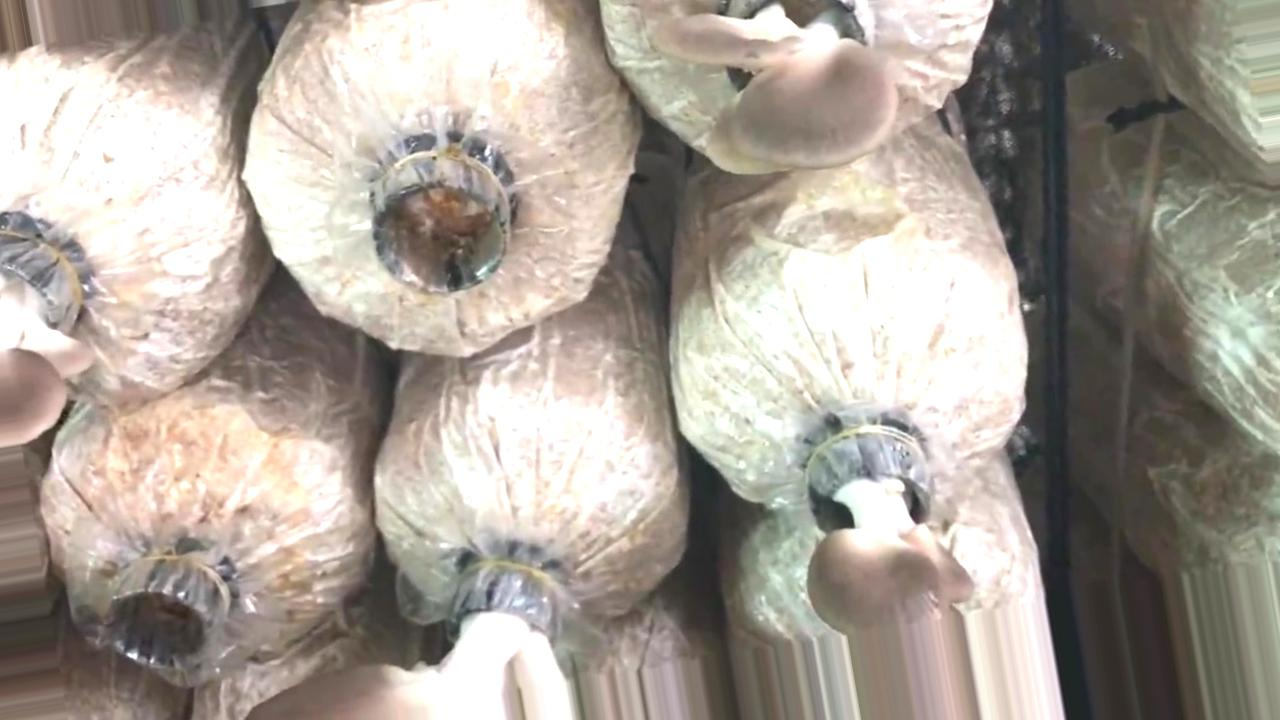nam: (248, 546, 580, 720), (804, 410, 982, 720), (651, 1, 902, 175), (1, 207, 105, 448)
